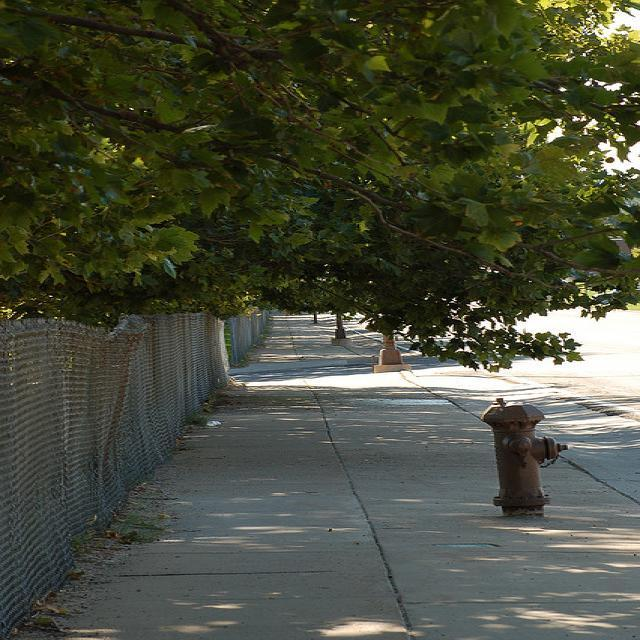fire_hydrant: (480, 397, 570, 517)
